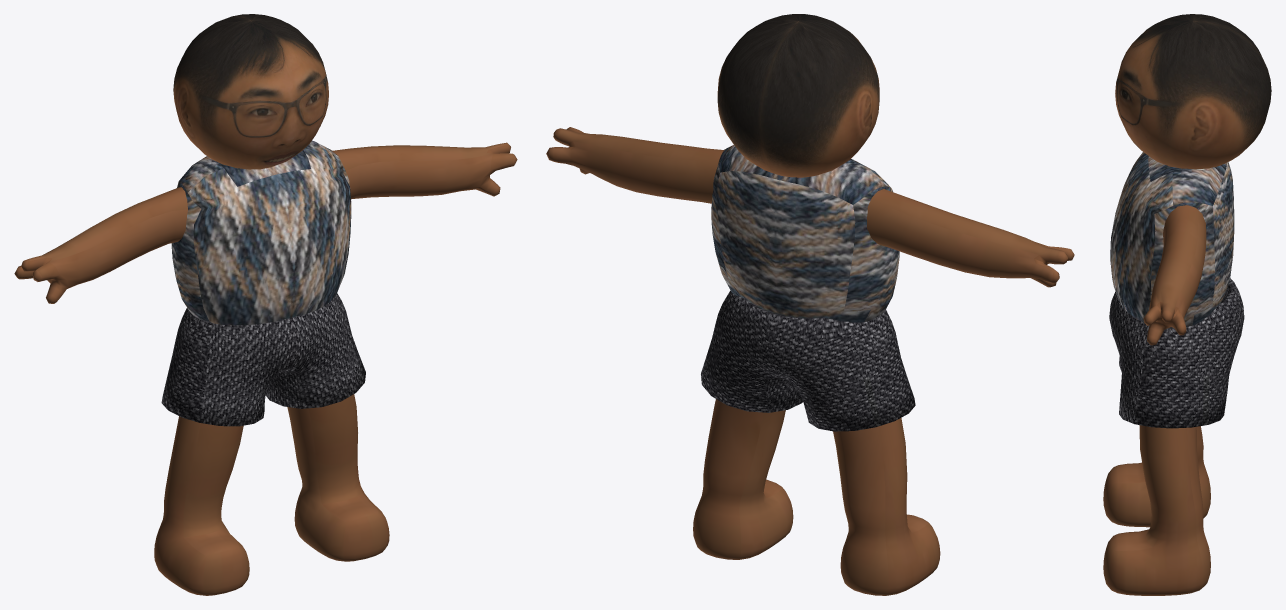
File: 1 npc.fbx
3 renders of one model, left to right at view 1: azimuth 30°, elevation 25°; view 2: azimuth 150°, elevation 25°; view 3: azimuth 270°, elevation 25°, orthographic. The views are drawn at different scales.
Parts seen in each view (by area): view 1: pasted__polySurface76; view 2: pasted__polySurface76; view 3: pasted__polySurface76.
Boxes of the visible parts, left/top/right/bottom form: pasted__polySurface76: left=14, top=14, right=517, bottom=595; pasted__polySurface76: left=546, top=14, right=1074, bottom=595; pasted__polySurface76: left=1103, top=14, right=1271, bottom=595.
Bounding box in the file's own units: 7.24 × 7.46 × 2.15.
4 materials, 4 textured.
